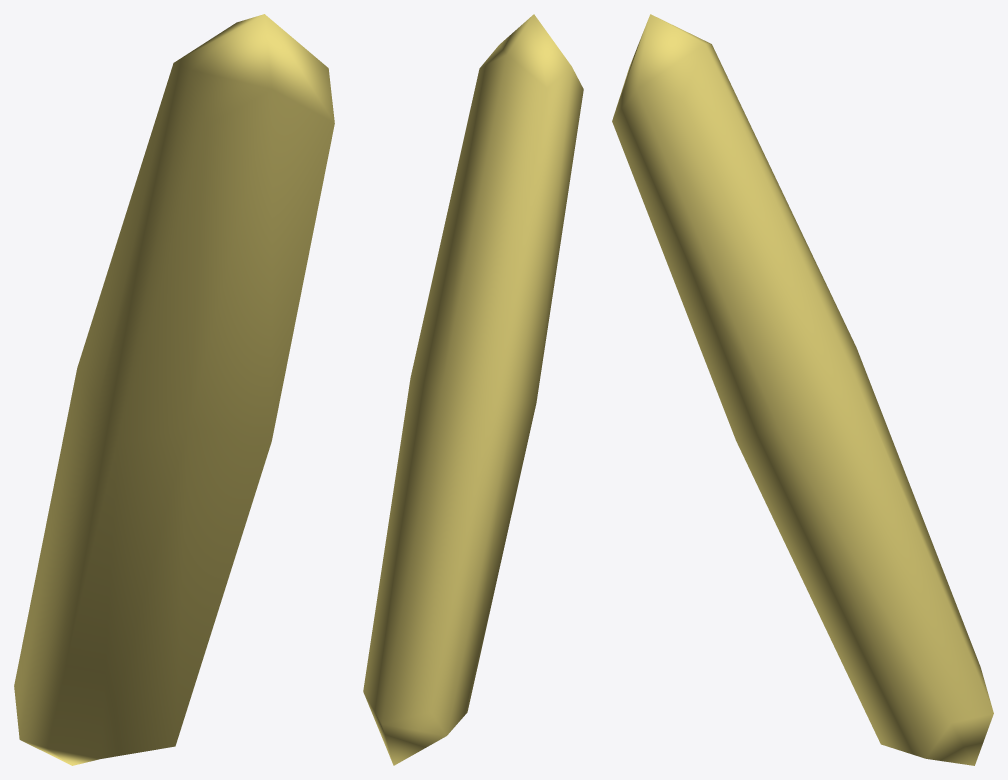
Rendered from posterior-nucleus-of-vagus-nerve-l.glb.
3 views of the same model, side by side, from view 1: azimuth 30°, elevation 25°; view 2: azimuth 150°, elevation 25°; view 3: azimuth 270°, elevation 25° (orthographic). The views are drawn at different scales.
Visible parts, largest first — view 1: Posterior nucleus of vagus nerve.l; view 2: Posterior nucleus of vagus nerve.l; view 3: Posterior nucleus of vagus nerve.l.
Part boxes in pixels (<box>): Posterior nucleus of vagus nerve.l: <box>14,14,334,765</box>; Posterior nucleus of vagus nerve.l: <box>363,14,583,765</box>; Posterior nucleus of vagus nerve.l: <box>612,14,993,765</box>.
Bounding box in the file's own units: 0.0013 × 0.00771 × 0.00355.
